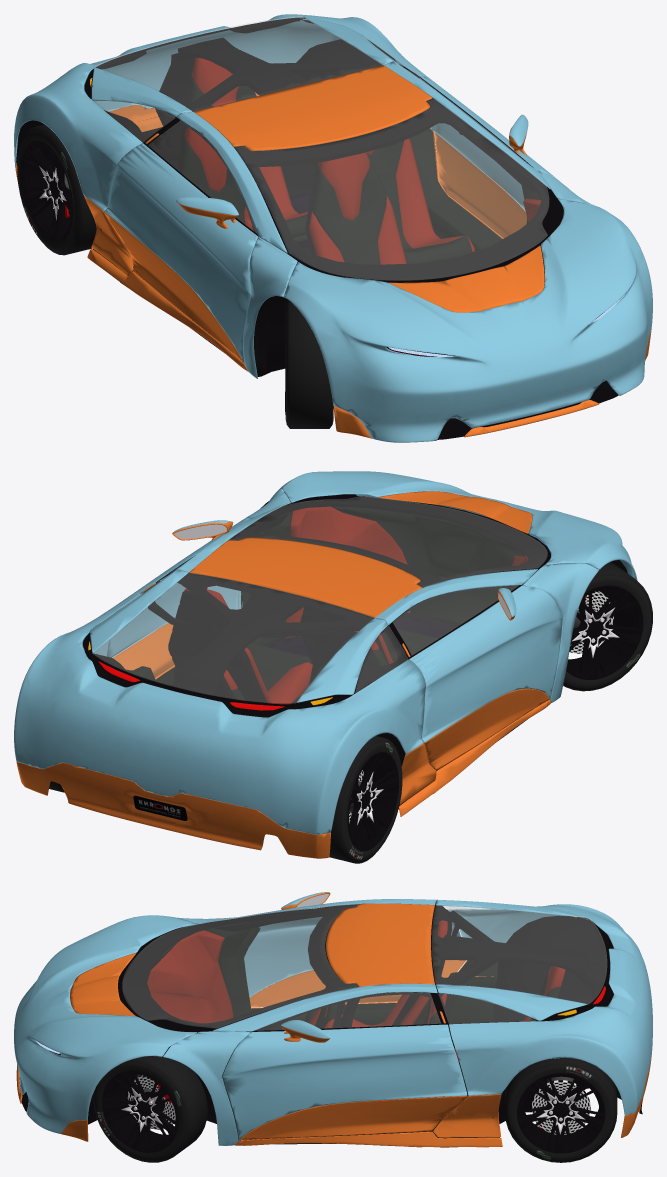
Rendered from car.glb.
3 views of the same model, one above another, from view 1: azimuth 30°, elevation 25°; view 2: azimuth 150°, elevation 25°; view 3: azimuth 270°, elevation 25° (orthographic). The views are drawn at different scales.
Parts seen in each view (by area): view 1: BodyHood, BodyWindshield, BodyRearPanelsColor1, BodyRearwindow, BodyDoorRColor1, BodyWindshieldGasket, BodyRoofPanel, InteriorSeatsColor1, InteriorSeatsColor2, BodyPillars, InteriorPillar, InteriorFloor (+14 smaller); view 2: BodyRearPanelsColor1, BodyRearwindow, BodyWindshield, BodyDoorRColor1, BodyPanelsColor2, BodyRoofPanel, InteriorPillar, InteriorDashMid, BodyHood, BodyPillars, BodyWindshieldGasket, WheelFrontRRim (+19 smaller); view 3: BodyRearPanelsColor1, BodyWindshield, BodyDoorLColor1, BodyHood, BodyRearwindow, BodyRoofPanel, BodyPillars, InteriorFloor, BodyWindshieldGasket, BodyDoorLColor2, BodyPanelsColor2, InteriorDashSides (+19 smaller).
Boxes of the visible parts, <box> form: BodyHood: <box>283,198,652,442</box>; BodyWindshield: <box>234,98,548,280</box>; BodyRearPanelsColor1: <box>14,14,435,211</box>; BodyRearwindow: <box>95,16,382,111</box>; BodyDoorRColor1: <box>104,143,257,363</box>; BodyWindshieldGasket: <box>234,99,563,282</box>; BodyRoofPanel: <box>194,65,432,150</box>; InteriorSeatsColor1: <box>185,57,474,264</box>; InteriorSeatsColor2: <box>180,78,472,264</box>; BodyPillars: <box>176,61,599,378</box>; InteriorPillar: <box>155,37,434,168</box>; InteriorFloor: <box>16,39,618,439</box>; BodyRearPanelsColor1: <box>14,569,425,834</box>; BodyRearwindow: <box>92,573,373,703</box>; BodyWindshield: <box>229,496,547,587</box>; BodyDoorRColor1: <box>409,585,562,742</box>; BodyPanelsColor2: <box>16,666,550,858</box>; BodyRoofPanel: <box>189,537,422,617</box>; InteriorPillar: <box>171,574,417,701</box>; InteriorDashMid: <box>331,503,528,623</box>; BodyHood: <box>279,471,637,580</box>; BodyPillars: <box>175,489,599,702</box>; BodyWindshieldGasket: <box>230,495,550,587</box>; WheelFrontRRim: <box>566,585,643,679</box>; BodyRearPanelsColor1: <box>436,899,652,1115</box>; BodyWindshield: <box>122,904,357,1028</box>; BodyDoorLColor1: <box>222,1024,467,1139</box>; BodyHood: <box>14,915,196,1133</box>; BodyRearwindow: <box>432,905,606,1003</box>; BodyRoofPanel: <box>326,903,434,986</box>; BodyPillars: <box>163,899,437,1145</box>; InteriorFloor: <box>19,915,642,1144</box>; BodyWindshieldGasket: <box>118,905,357,1032</box>; BodyDoorLColor2: <box>240,1096,467,1140</box>; BodyPanelsColor2: <box>16,960,652,1147</box>; InteriorDashSides: <box>147,930,233,1023</box>.
Size of the model in its own units: 2.54 by 1.15 by 4.36.
17 materials, 13 textured.
